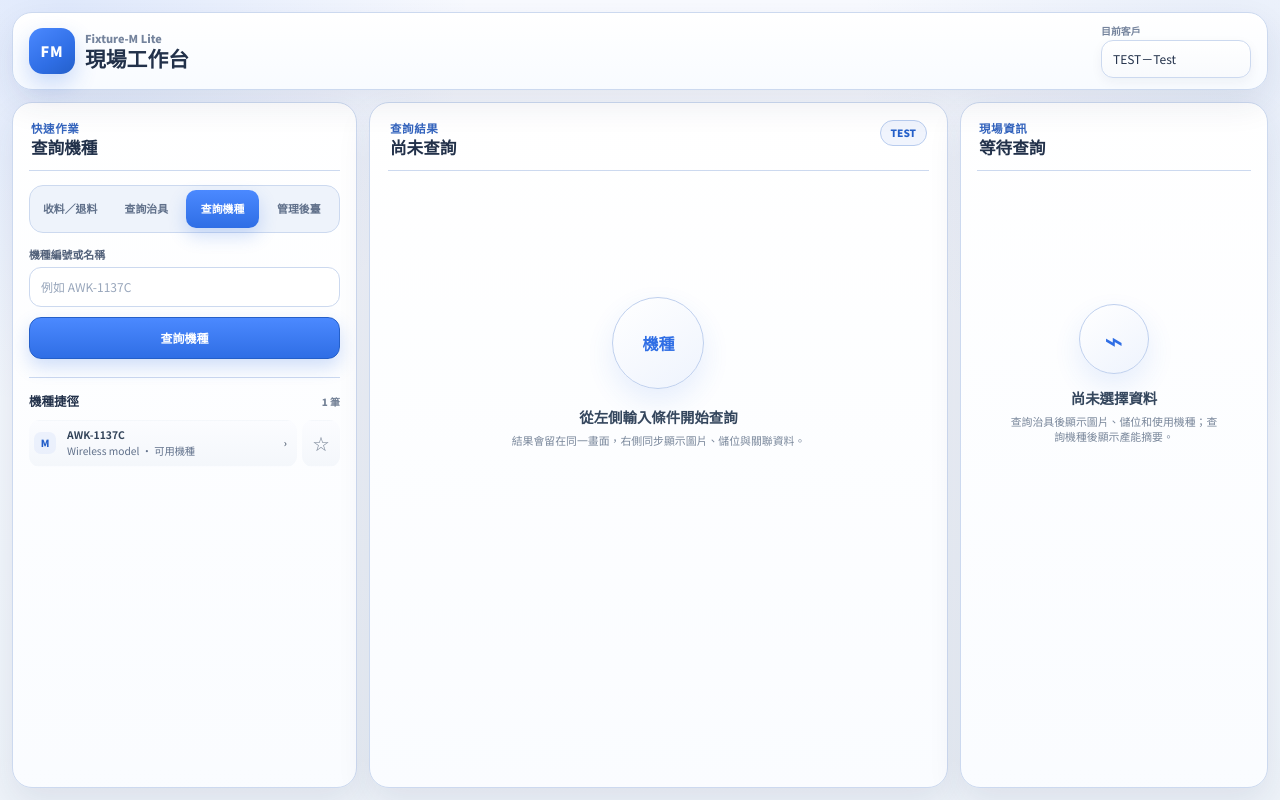
Scenario: WorkbenchUiSurface › uses relevant model shortcuts and identifies the model bottleneck
What coordinates should you click on to do the following:
click the button with aria-label "查詢機種 AWK-1137C Wireless model"
I would click on:
 (163, 443)
Its box is [29,420,297,467].
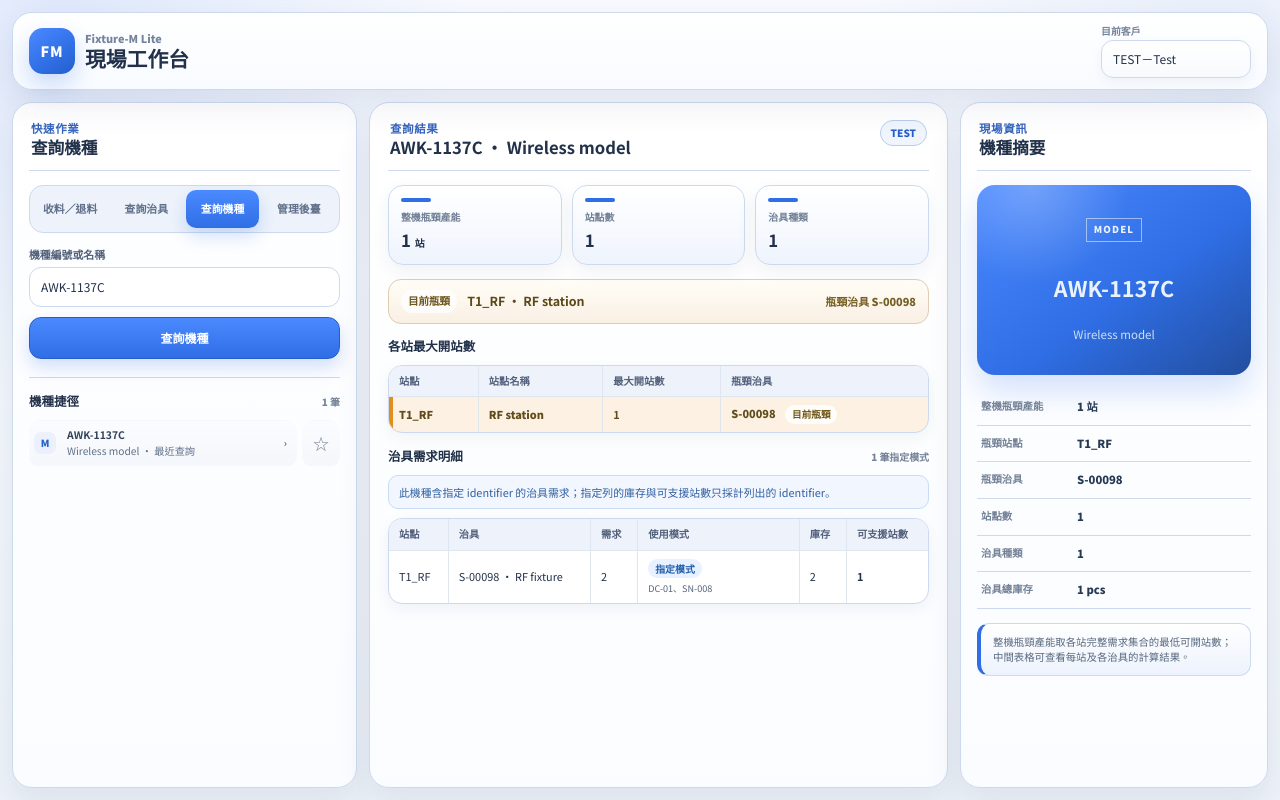
expect the text "整機瓶頸產能" is shown: met, box [401,209,460,224]
expect the element with class "workbench-bottleneck-callout" shows "T1_RF": met, box [467,292,585,310]
expect the element with class "workbench-bottleneck-callout" shows "S-00098": met, box [826,293,916,309]
